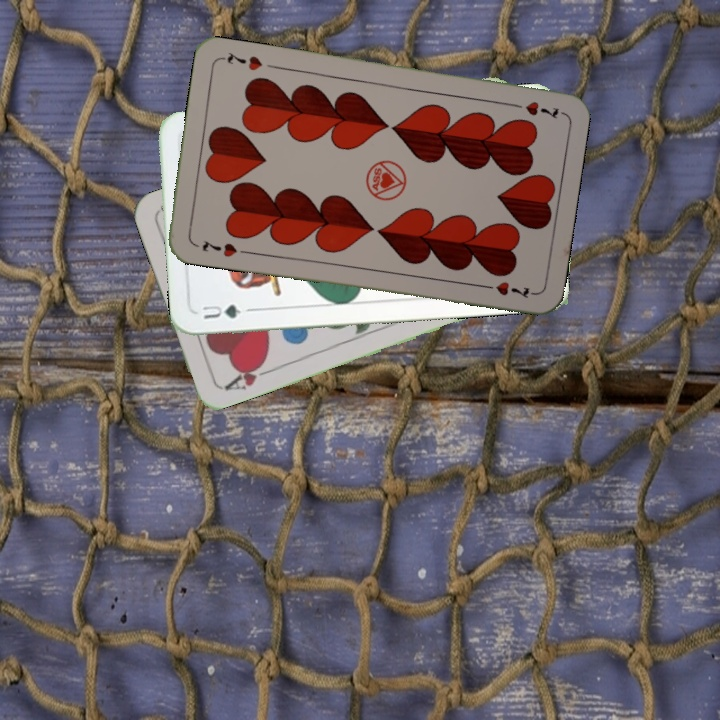GU: (198, 300, 254, 322)
H7: (505, 97, 564, 122), (198, 236, 239, 260)
HA: (220, 356, 275, 393)
